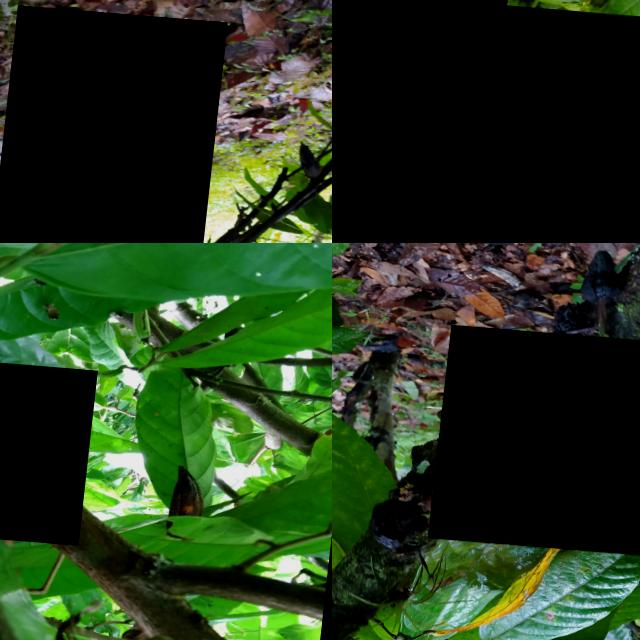Fitoftora: (0, 1, 229, 243), (436, 321, 640, 557), (332, 0, 512, 243), (475, 0, 640, 243), (0, 357, 101, 538)
